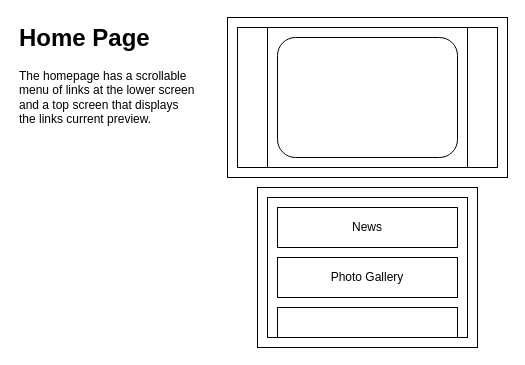
This 525x365 diagram has some shape labels left out. Each missing label, with the box of its shape:
Library: (276, 306, 458, 338)
Top screen displays preview for currently selected link?: (276, 36, 458, 158)
